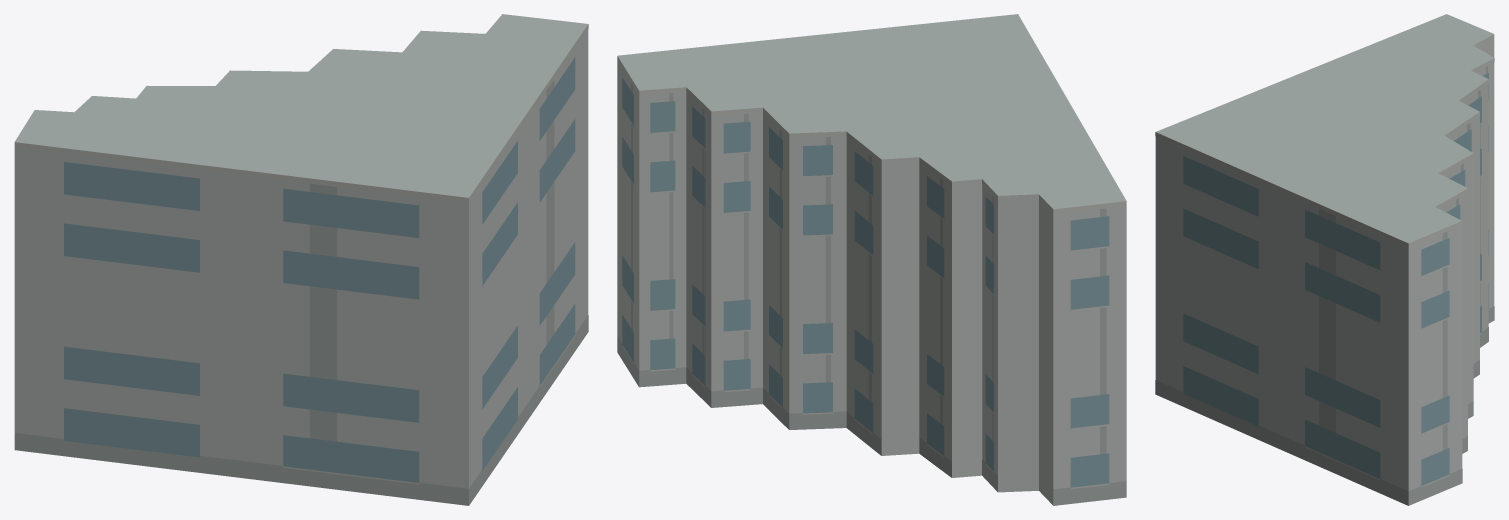
File: survey-upis-32718895.glb
3 views of the same model, side by side, from view 1: azimuth 30°, elevation 25°; view 2: azimuth 150°, elevation 25°; view 3: azimuth 270°, elevation 25° (orthographic). The views are drawn at different scales.
Visible parts, largest first — view 1: survey-upis-32718895.tmp; view 2: survey-upis-32718895.tmp; view 3: survey-upis-32718895.tmp.
Boxes of the visible parts, bbox=[...] form: survey-upis-32718895.tmp: bbox=[14, 14, 588, 505]; survey-upis-32718895.tmp: bbox=[617, 14, 1126, 505]; survey-upis-32718895.tmp: bbox=[1155, 14, 1494, 505].
Bounding box in the file's own units: 26.8 × 14.3 × 16.74.
